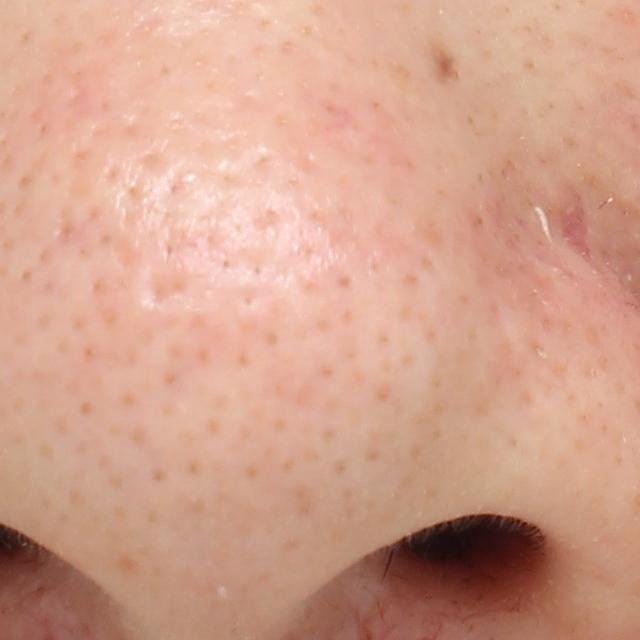atrophic_scar: (558, 190, 598, 273), (132, 266, 196, 309)
nevus: (434, 44, 465, 89)
